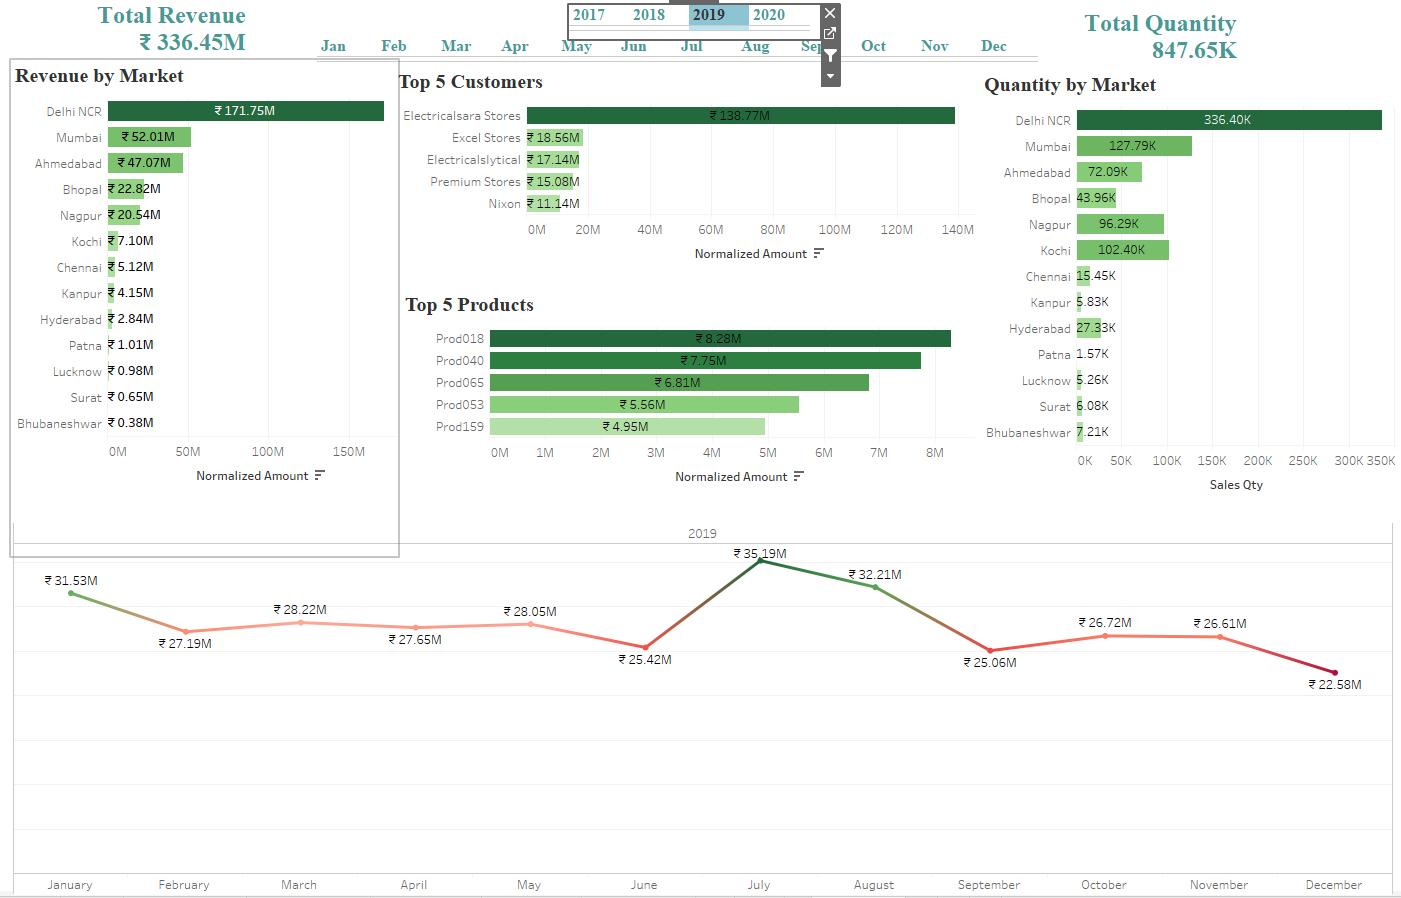

This screenshot's page, from the dashboard's own definition file:
{"tool":"tableau","page":{"name":"Dashboard","canvas":[1700,900],"ordinal":0},"visuals":[{"type":"worksheet","title":"Quantity","mark":"Automatic","box":[1072,4,256,88]},{"type":"worksheet","title":"Total Revenue","mark":"Automatic","box":[101,11,187,75]},{"type":"worksheet","title":"Year","mark":"Automatic","cols":["cy_date"],"box":[580,14,251,34]},{"type":"worksheet","title":"Month","mark":"Automatic","cols":["cy_date"],"box":[328,45,729,50]},{"type":"worksheet","title":"Revenue by Market","mark":"Automatic","rows":["markets_name"],"cols":["Calculation_656118194912772096"],"box":[22,69,387,496]},{"type":"worksheet","title":"Top 5 Customers","mark":"Automatic","rows":["custmer_name"],"cols":["Calculation_656118194912772096"],"box":[405,75,582,207]},{"type":"worksheet","title":"Quantity by Market","mark":"Automatic","rows":["markets_name"],"cols":["sales_qty"],"box":[991,78,417,464]},{"type":"worksheet","title":"Top 5 Products","mark":"Automatic","rows":["product_code (products)"],"cols":["Calculation_656118194912772096"],"box":[412,298,578,226]},{"type":"worksheet","title":"Revenue by years","mark":"Line","rows":["Calculation_656118194912772096"],"cols":["date","date"],"box":[24,532,1380,372]}]}

Visuals, with their boxes on the page's 1700x900 design canvas (x1, y1, x2, y2). These are canvas units, not pixel positions in the 1401x898 screenshot, which may show the page scaled, cropped or inside an application window:
"Quantity" worksheet: [x1=1072, y1=4, x2=1328, y2=92]
"Total Revenue" worksheet: [x1=101, y1=11, x2=288, y2=86]
"Year" worksheet: [x1=580, y1=14, x2=831, y2=48]
"Month" worksheet: [x1=328, y1=45, x2=1057, y2=95]
"Revenue by Market" worksheet: [x1=22, y1=69, x2=409, y2=565]
"Top 5 Customers" worksheet: [x1=405, y1=75, x2=987, y2=282]
"Quantity by Market" worksheet: [x1=991, y1=78, x2=1408, y2=542]
"Top 5 Products" worksheet: [x1=412, y1=298, x2=990, y2=524]
"Revenue by years" worksheet (Line marks): [x1=24, y1=532, x2=1404, y2=904]
